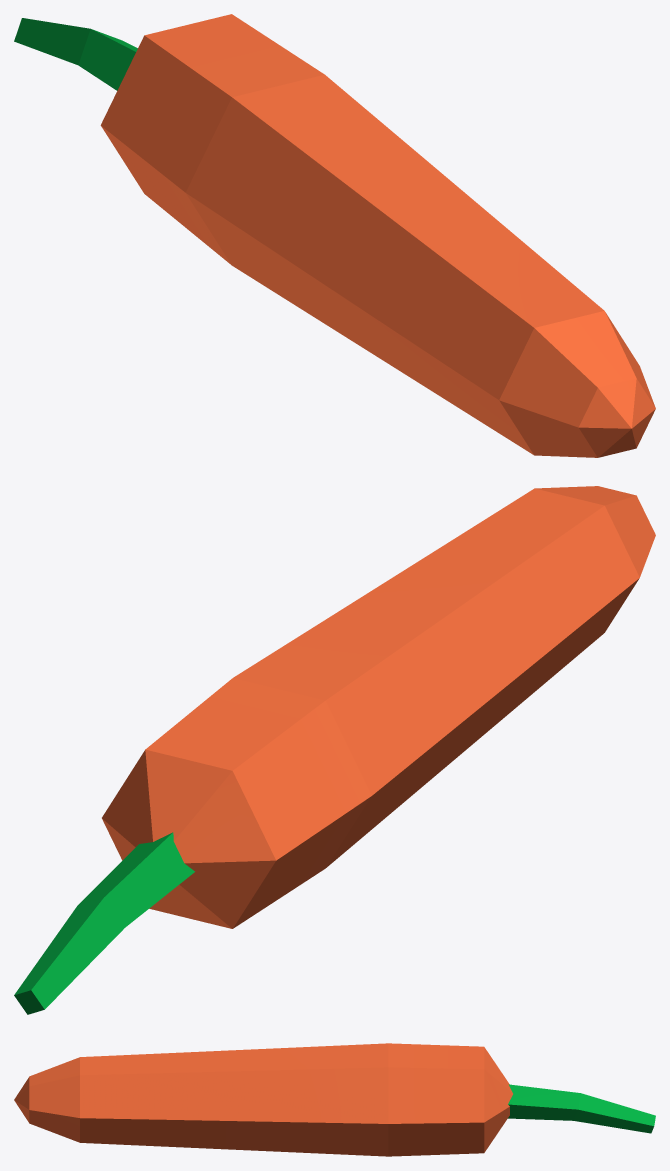
File: carrot_001.glb
The picture shows the model from 3 angles, top to bottom: view 1: azimuth 30°, elevation 25°; view 2: azimuth 150°, elevation 25°; view 3: azimuth 270°, elevation 25°; orthographic projection. The views are drawn at different scales.
Visible parts, largest first — view 1: carrot_001; view 2: carrot_001; view 3: carrot_001.
Boxes of the visible parts, <box> form: carrot_001: <box>14,14,655,457</box>; carrot_001: <box>14,486,655,1014</box>; carrot_001: <box>14,1043,655,1156</box>.
Bounding box in the file's own units: 0.0356 × 0.0308 × 0.2011.
Materials: 1 (1 with a texture image).
